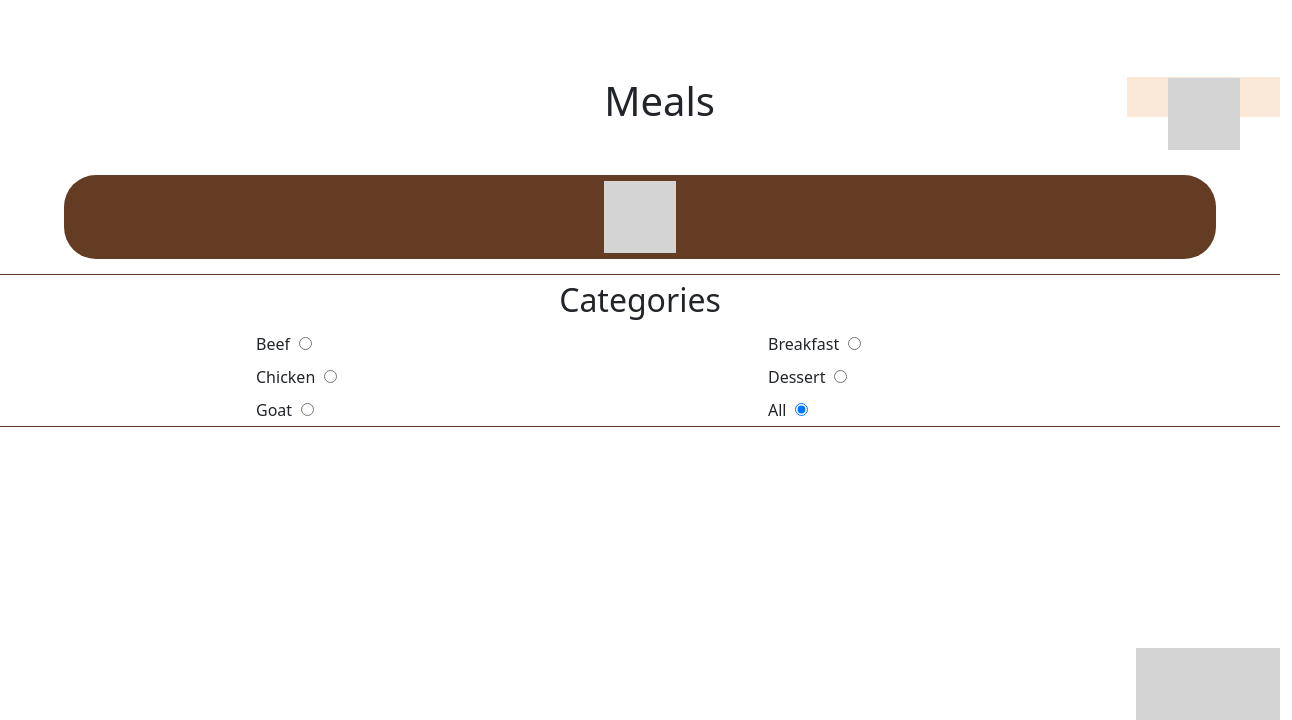
Scenario: Verifica se os elementos da barra de busca renderizam ao clicar em buscar
The width and height of the screenshot is (1292, 720).
Click the button with test id "search-top-btn" at (640, 217), box top-left (64, 175), bottom-right (1216, 259)
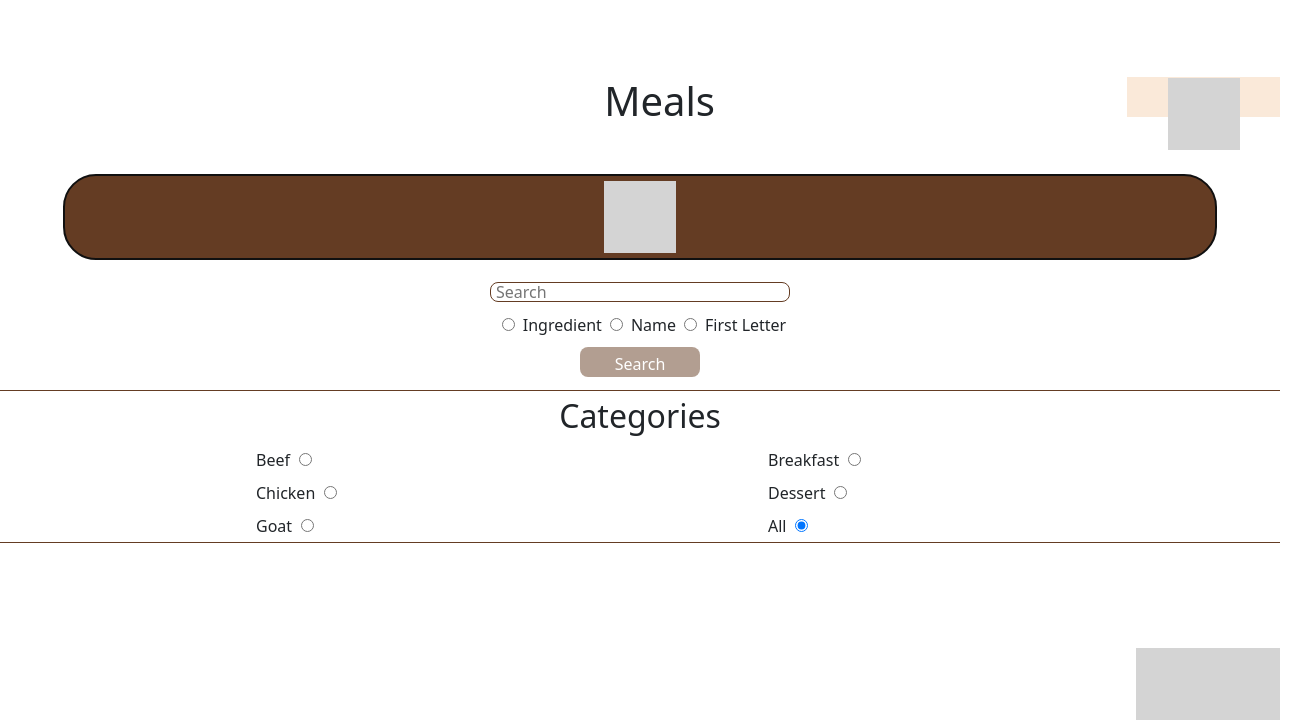
Check: the field with test id "search-input" is empty, box top-left (490, 282), bottom-right (790, 302)
Check: the radio button with test id "name-search-radio" is not checked, box top-left (610, 318), bottom-right (623, 331)
Check: the radio button with test id "first-letter-search-radio" is not checked, box top-left (684, 318), bottom-right (697, 331)
